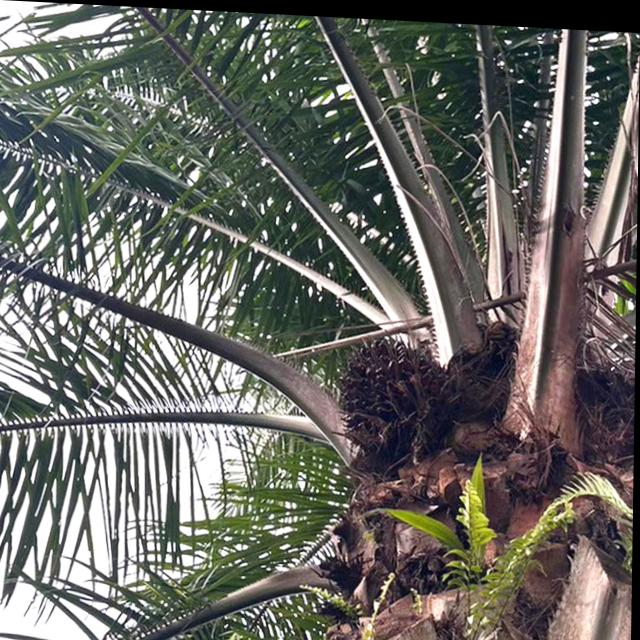ripe: (335, 328, 448, 445)
